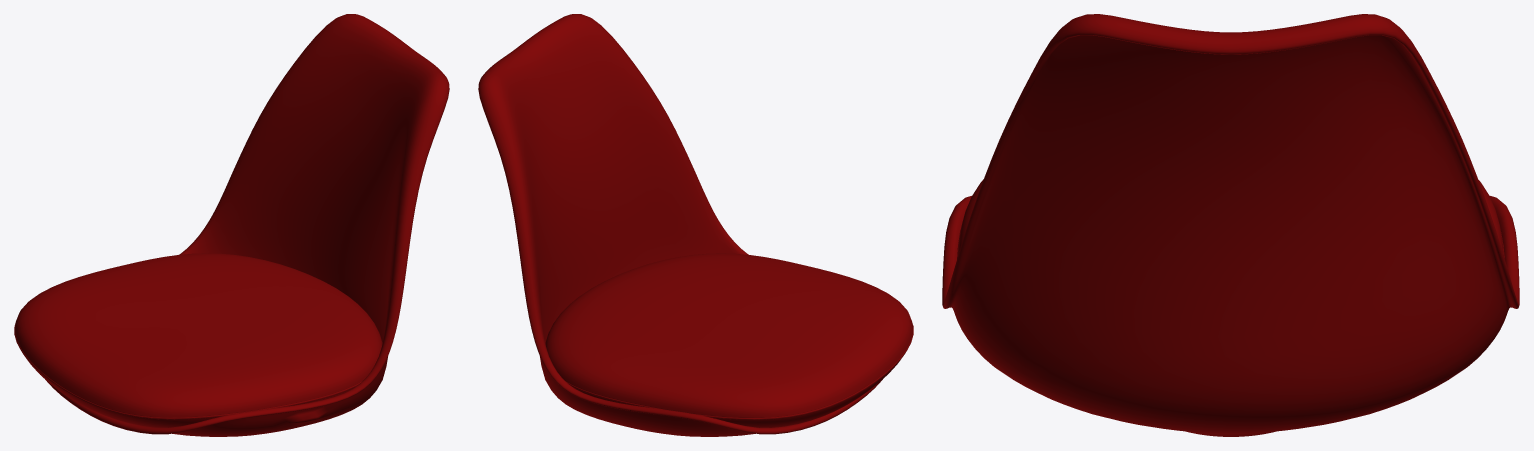
The model's file is GheKhanDaiDo.fbx.
3 views of the same model, side by side, from view 1: azimuth 30°, elevation 25°; view 2: azimuth 150°, elevation 25°; view 3: azimuth 270°, elevation 25° (orthographic). The views are drawn at different scales.
Visible parts, largest first — view 1: Ghếkhandai; view 2: Ghếkhandai; view 3: Ghếkhandai.
Boxes of the visible parts, left/top/right/bottom form: Ghếkhandai: left=14, top=14, right=449, bottom=436; Ghếkhandai: left=478, top=14, right=913, bottom=436; Ghếkhandai: left=942, top=14, right=1519, bottom=436.
Bounding box in the file's own units: 22.3 × 18.78 × 19.43.
